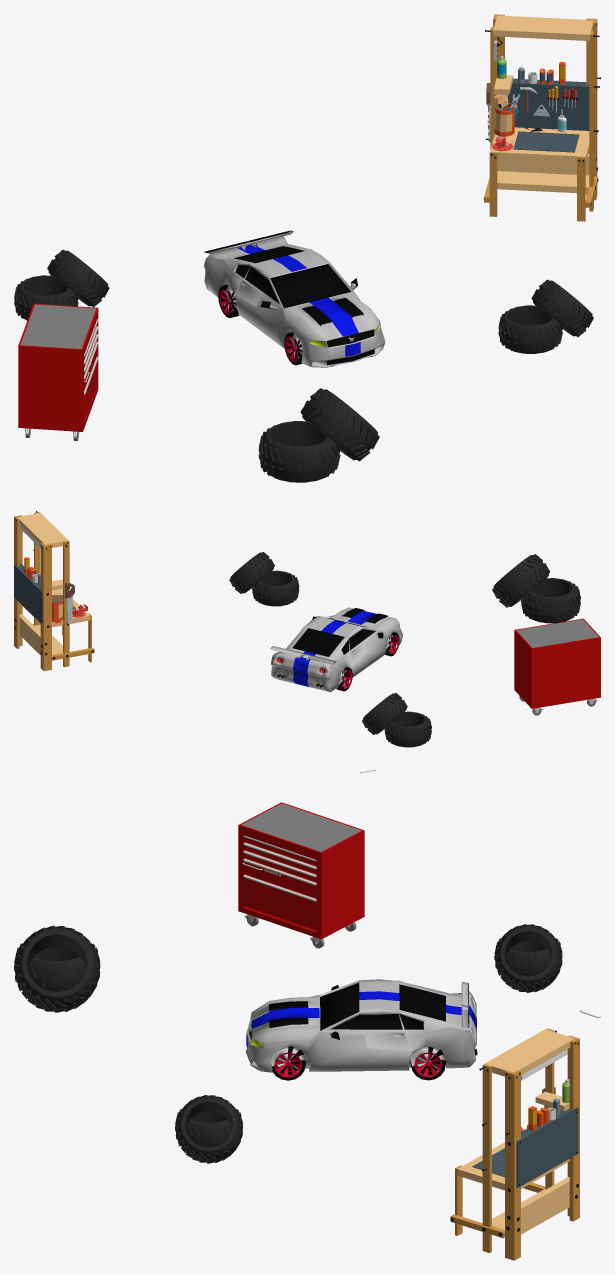
Rendered from mustang_scene.glb.
3 views of the same model, one above another, from view 1: azimuth 30°, elevation 25°; view 2: azimuth 150°, elevation 25°; view 3: azimuth 270°, elevation 25° (orthographic). The views are drawn at different scales.
Parts seen in each view (by area): view 1: Bench.001, Cube, Mesh9 Group2 UC_091_1 Model.001, Debris_Tires, Debris_Tires.002, Debris_Tires.001; view 2: Cube, Mesh9 Group2 UC_091_1 Model.001, Bench.001, Debris_Tires, Debris_Tires.001, Debris_Tires.002; view 3: Cube, Bench.001, Mesh9 Group2 UC_091_1 Model.001, Debris_Tires, Debris_Tires.001, Debris_Tires.002, Mesh45 Group7 UC_091_1 Model.001, Circle.002, Mesh44 Group7 UC_091_1 Model.001, Circle.003.
Boxes of the visible parts, <box> form: Bench.001: <box>483,14,600,221</box>; Cube: <box>204,230,385,367</box>; Mesh9 Group2 UC_091_1 Model.001: <box>18,303,98,431</box>; Debris_Tires: <box>258,388,379,482</box>; Debris_Tires.002: <box>498,279,593,353</box>; Debris_Tires.001: <box>14,249,109,320</box>; Cube: <box>270,607,402,692</box>; Mesh9 Group2 UC_091_1 Model.001: <box>514,618,600,708</box>; Bench.001: <box>14,511,94,671</box>; Debris_Tires: <box>492,554,580,623</box>; Debris_Tires.001: <box>362,693,431,747</box>; Debris_Tires.002: <box>229,552,299,606</box>; Cube: <box>245,979,476,1072</box>; Bench.001: <box>450,1028,579,1260</box>; Mesh9 Group2 UC_091_1 Model.001: <box>238,802,364,939</box>; Debris_Tires: <box>14,925,100,1012</box>; Debris_Tires.001: <box>494,924,562,992</box>; Debris_Tires.002: <box>175,1095,242,1163</box>; Mesh45 Group7 UC_091_1 Model.001: <box>243,877,316,931</box>; Circle.002: <box>410,1046,445,1080</box>; Mesh44 Group7 UC_091_1 Model.001: <box>243,861,316,898</box>; Circle.003: <box>271,1046,305,1080</box>.
Bounding box in the file's own units: 11.12 × 3.02 × 7.78.
